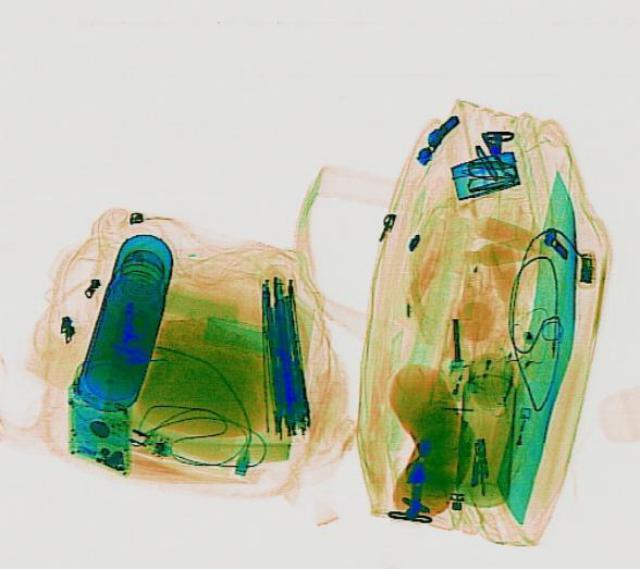Knife: (484, 170, 604, 527)
